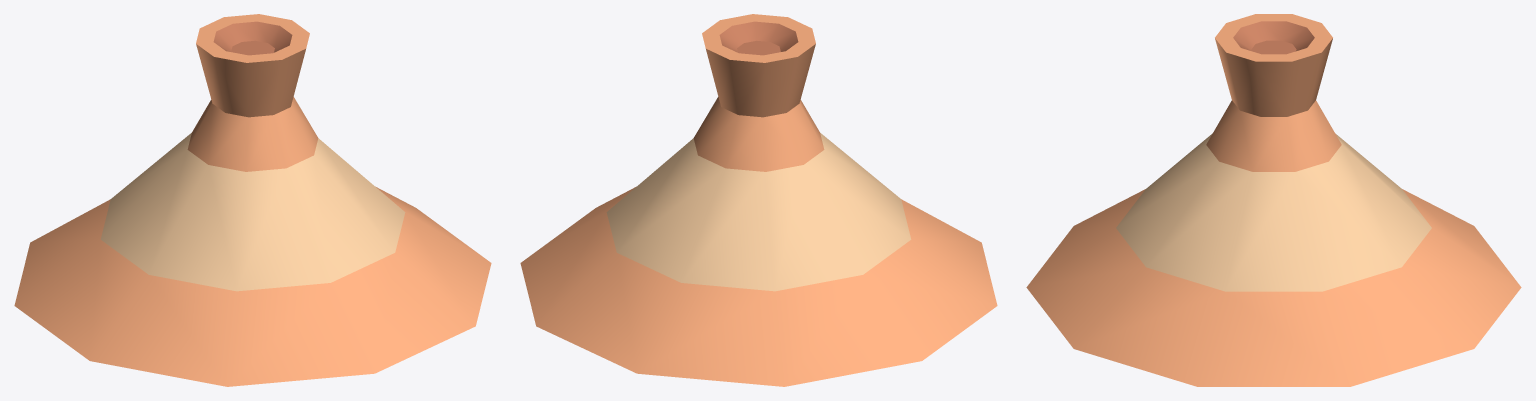
File: tajineLid.obj
3 renders of one model, left to right at view 1: azimuth 30°, elevation 25°; view 2: azimuth 150°, elevation 25°; view 3: azimuth 270°, elevation 25°, orthographic.
Visible parts, largest first — view 1: tajineLid; view 2: tajineLid; view 3: tajineLid.
Boxes of the visible parts, x1,y1,x2,y2 form: tajineLid: [14, 14, 491, 386]; tajineLid: [520, 14, 997, 386]; tajineLid: [1026, 14, 1521, 386].
Size of the model in its own units: 0.7555 by 0.442 by 0.7943.
